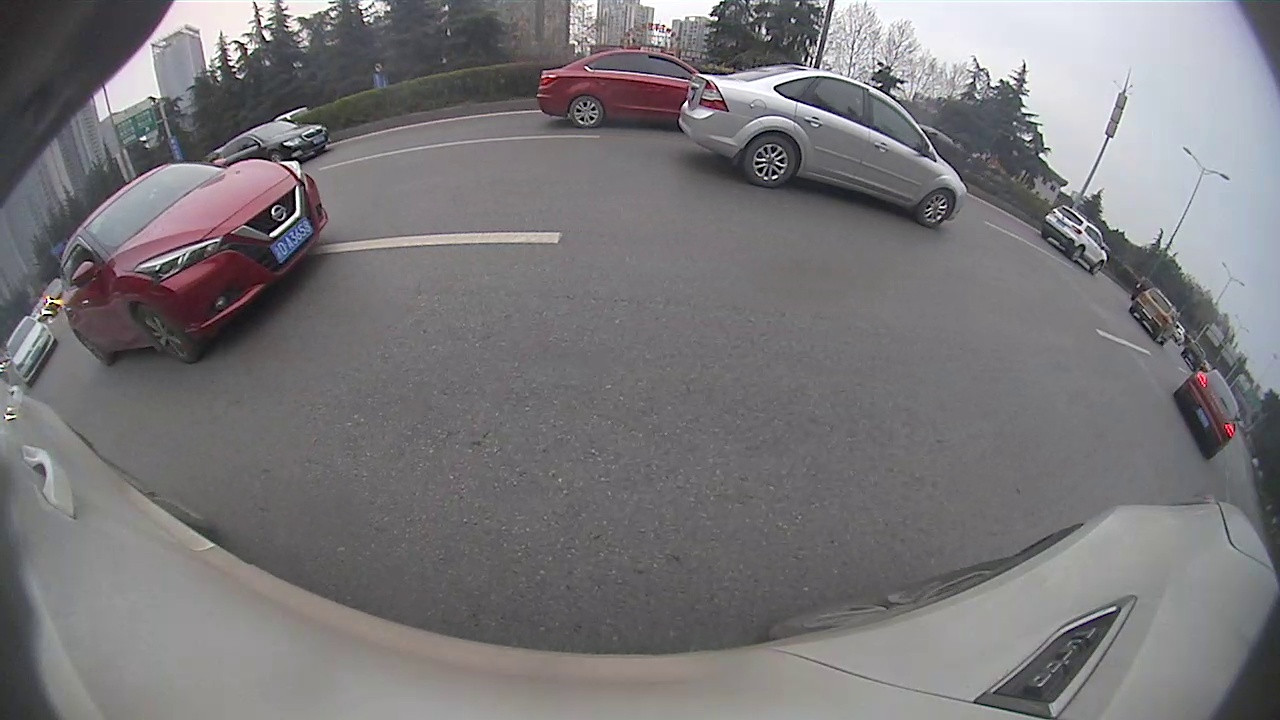car: (59, 159, 328, 365), (674, 62, 969, 228), (536, 49, 696, 131), (1173, 365, 1240, 462), (1043, 202, 1110, 278), (217, 123, 330, 163), (7, 317, 56, 387), (1132, 285, 1178, 345)
front: (141, 308, 196, 367), (917, 187, 953, 231)
rear: (740, 133, 799, 190), (569, 94, 605, 131), (1071, 245, 1086, 261)
